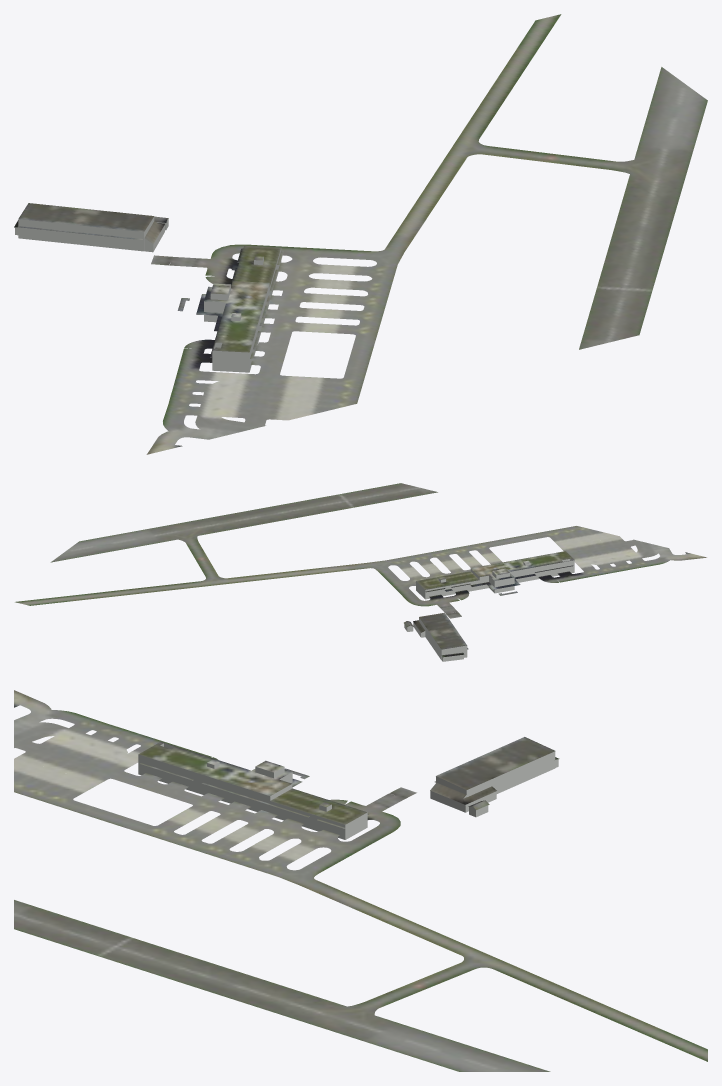
File: LSME_-1_0.glb
The picture shows the model from 3 angles, top to bottom: view 1: azimuth 30°, elevation 25°; view 2: azimuth 150°, elevation 25°; view 3: azimuth 270°, elevation 25°; orthographic projection. The views are drawn at different scales.
Parts seen in each view (by area): view 1: pavement_LSME_pavement_5331_2432, pavement_LSME_pavement_5330_2432, building_2577585d2331cc5b, building_a31d1f1ce117202d, building_b6ff2aff7f8aaeb6, building_deb9b76b1bd5dc15; view 2: pavement_LSME_pavement_5331_2432, pavement_LSME_pavement_5330_2432, building_2577585d2331cc5b, building_deb9b76b1bd5dc15, building_a31d1f1ce117202d, building_b6ff2aff7f8aaeb6; view 3: pavement_LSME_pavement_5331_2432, pavement_LSME_pavement_5330_2432, building_2577585d2331cc5b, building_deb9b76b1bd5dc15, building_a31d1f1ce117202d, building_b6ff2aff7f8aaeb6.
Part boxes in pixels (bbox=[...]): pavement_LSME_pavement_5331_2432: bbox=[151, 14, 707, 410]; pavement_LSME_pavement_5330_2432: bbox=[146, 339, 325, 454]; building_2577585d2331cc5b: bbox=[196, 246, 283, 358]; building_a31d1f1ce117202d: bbox=[14, 203, 168, 244]; building_b6ff2aff7f8aaeb6: bbox=[15, 217, 168, 252]; building_deb9b76b1bd5dc15: bbox=[204, 248, 281, 372]; pavement_LSME_pavement_5331_2432: bbox=[15, 483, 595, 618]; pavement_LSME_pavement_5330_2432: bbox=[538, 530, 706, 582]; building_2577585d2331cc5b: bbox=[415, 551, 574, 592]; building_deb9b76b1bd5dc15: bbox=[416, 559, 574, 599]; building_a31d1f1ce117202d: bbox=[404, 612, 468, 657]; building_b6ff2aff7f8aaeb6: bbox=[404, 617, 467, 661]; pavement_LSME_pavement_5331_2432: bbox=[14, 777, 707, 1071]; pavement_LSME_pavement_5330_2432: bbox=[14, 690, 217, 777]; building_2577585d2331cc5b: bbox=[138, 742, 368, 828]; building_deb9b76b1bd5dc15: bbox=[138, 743, 367, 839]; building_a31d1f1ce117202d: bbox=[430, 737, 559, 810]; building_b6ff2aff7f8aaeb6: bbox=[430, 751, 558, 817].
Size of the model in its own units: 648 by 20.56 by 500.
3 materials, 2 textured.
